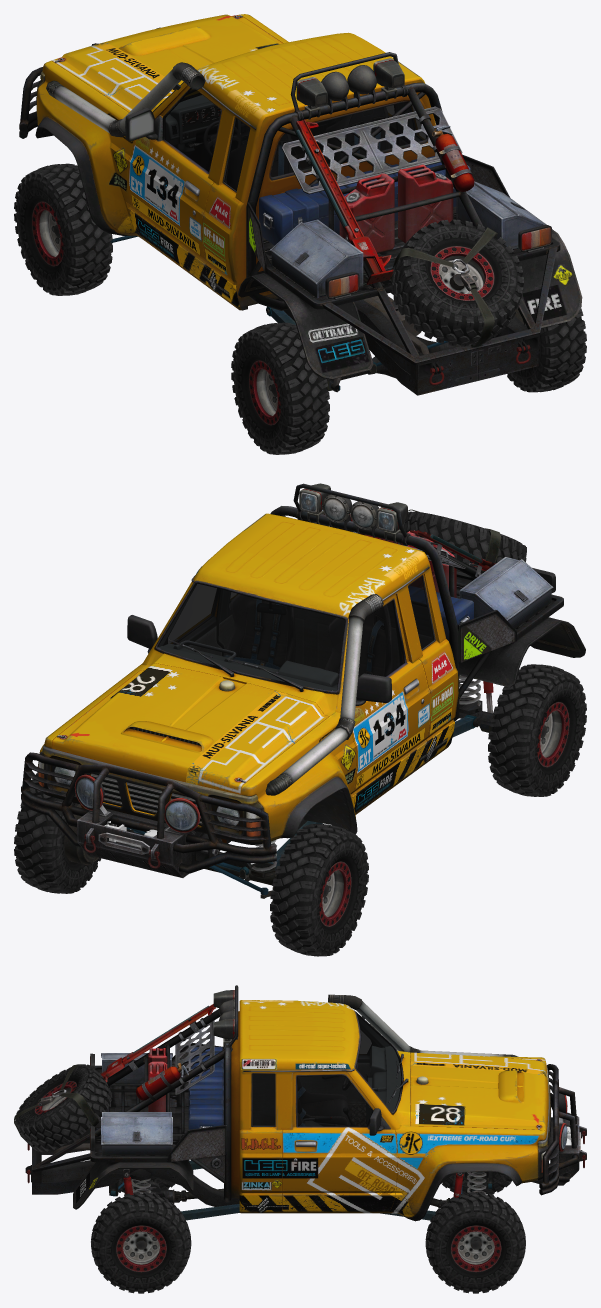
File: nissan_patrol_extreme.glb
The picture shows the model from 3 angles, top to bottom: view 1: azimuth 30°, elevation 25°; view 2: azimuth 150°, elevation 25°; view 3: azimuth 270°, elevation 25°; orthographic projection. The views are drawn at different scales.
Visible parts, largest first — view 1: prochee.001, Chassis, zapaska.001, wheel.003, door_lf_ok, bonnet_ok, wheel.004, glass, wheel.002, door_lf_glass, Panel.001; view 2: Chassis, prochee.001, bonnet_ok, glass, wheel.004, wheel.003, door_lf_ok, wheel.001, zapaska.001, door_lf_glass, Panel.001, door_rf_ok (+1 smaller); view 3: Chassis, prochee.001, door_rf_ok, bonnet_ok, wheel.002, wheel.001, zapaska.001, glass, door_rf_glass, Panel.001, door_lf_ok, wheel.004.
Part boxes in pixels (x1,y1,x2,y2): prochee.001: (19,27,560,395); Chassis: (35,14,582,379); zapaska.001: (391,219,523,346); wheel.003: (231,322,329,454); door_lf_ok: (125,85,223,285); bonnet_ok: (51,14,282,112); wheel.004: (14,163,112,295); glass: (184,89,425,190); wheel.002: (507,308,586,392); door_lf_glass: (164,89,220,171); Panel.001: (166,95,335,157); Chassis: (37,513,585,844); prochee.001: (21,483,563,898); bonnet_ok: (52,663,329,794); glass: (157,576,434,690); wheel.004: (270,824,368,956); wheel.003: (488,664,586,796); door_lf_ok: (352,593,431,812); wheel.001: (14,772,101,893); zapaska.001: (398,511,526,572); door_lf_glass: (358,601,404,677); Panel.001: (158,640,338,690); door_rf_ok: (127,588,221,663); Chassis: (73,1000,550,1221); prochee.001: (14,985,586,1242); door_rf_ok: (283,1071,397,1210); bonnet_ok: (410,1052,548,1135); wheel.002: (91,1192,191,1293); wheel.001: (425,1192,525,1293); zapaska.001: (15,1064,112,1152); glass: (252,1014,401,1125); door_rf_glass: (297,1075,372,1126); Panel.001: (342,1046,400,1124); door_lf_ok: (299,1024,377,1126); wheel.004: (442,1172,512,1194).
Size of the model in its own units: 3 by 2.98 by 6.48.
Materials: 23 (21 with a texture image).
